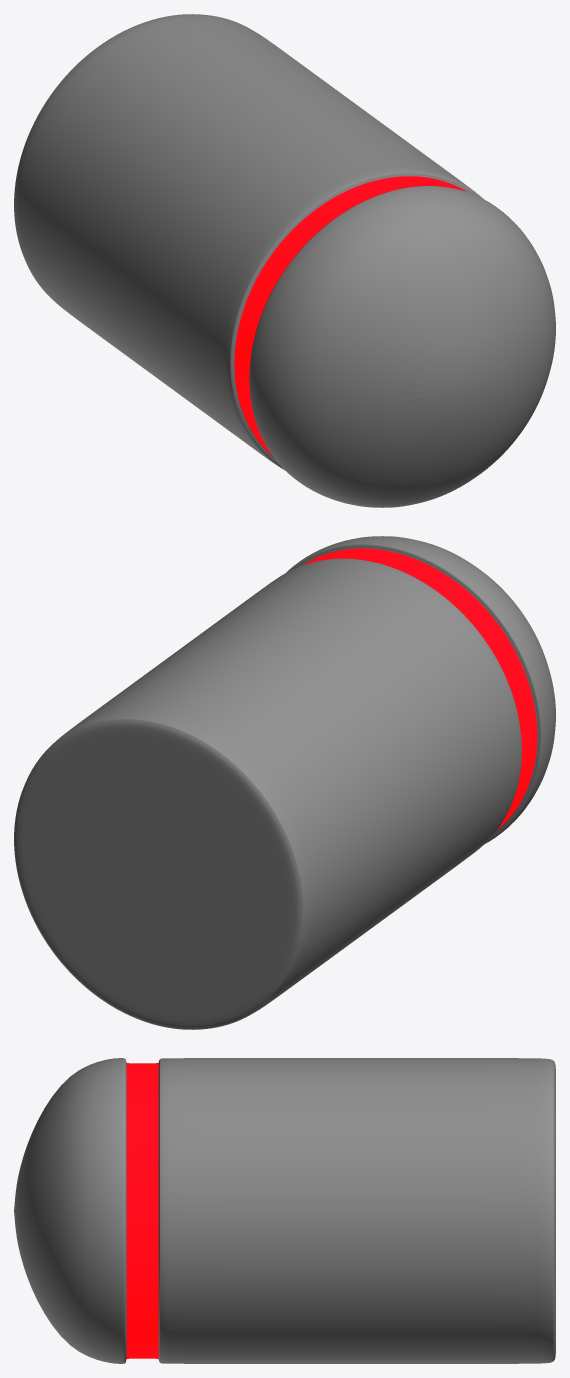
The model's file is Bullet.fbx.
3 views of the same model, one above another, from view 1: azimuth 30°, elevation 25°; view 2: azimuth 150°, elevation 25°; view 3: azimuth 270°, elevation 25° (orthographic). The views are drawn at different scales.
Visible parts, largest first — view 1: Cylinder; view 2: Cylinder; view 3: Cylinder.
Part boxes in pixels (left/top/right/bottom): Cylinder: left=14, top=14, right=555, bottom=507; Cylinder: left=14, top=536, right=555, bottom=1029; Cylinder: left=14, top=1058, right=555, bottom=1363.
Bounding box in the file's own units: 6.16 × 6.16 × 10.92.
